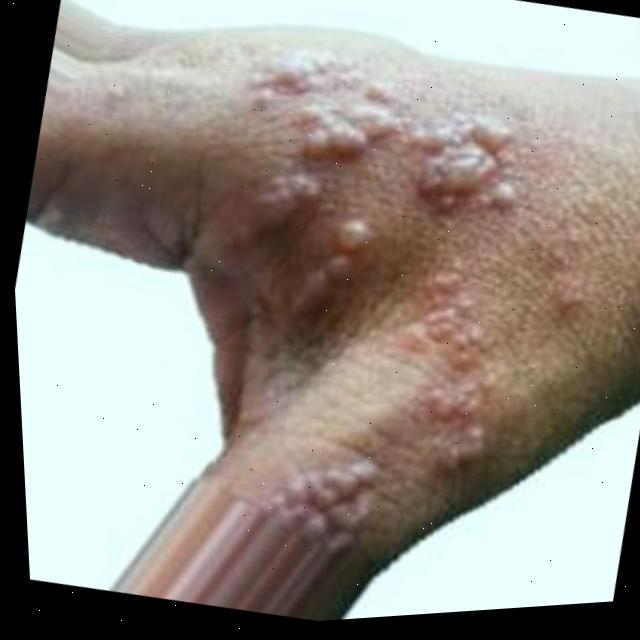Shingles: (141, 23, 563, 586)
